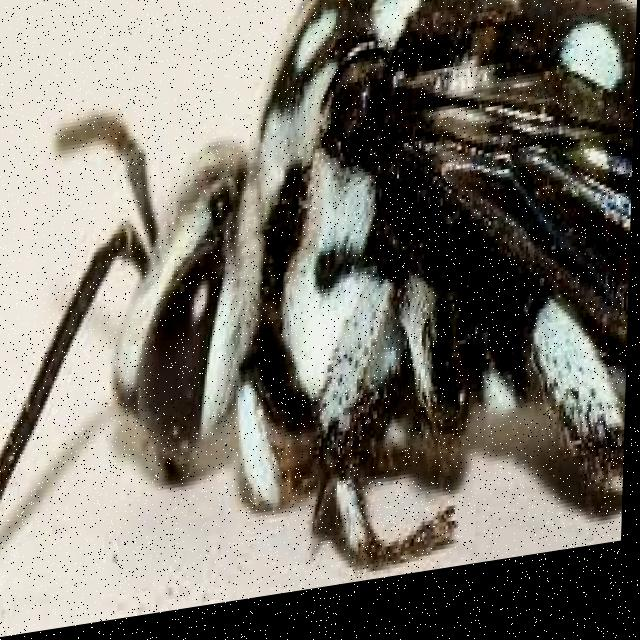Thyreus: (19, 0, 640, 636)
